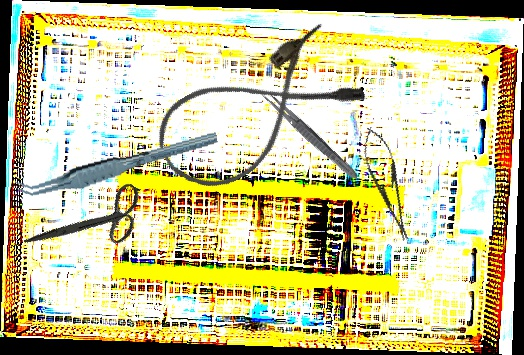Cannula: (143, 18, 370, 206)
Dressing Forceps: (257, 87, 362, 183)
Iris Scissors: (23, 154, 156, 291)
Needle Holder: (355, 123, 419, 245)
Tissue Forceps: (12, 131, 222, 199)
